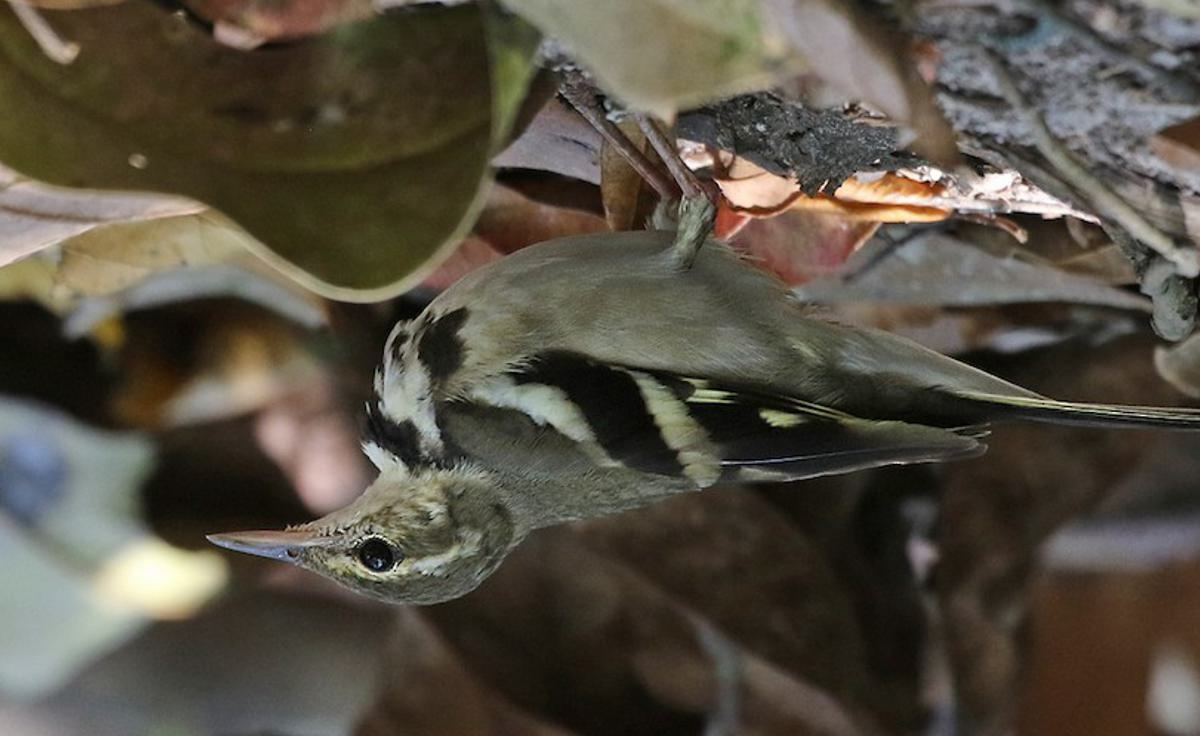wagtail: (219, 233, 1013, 634)
